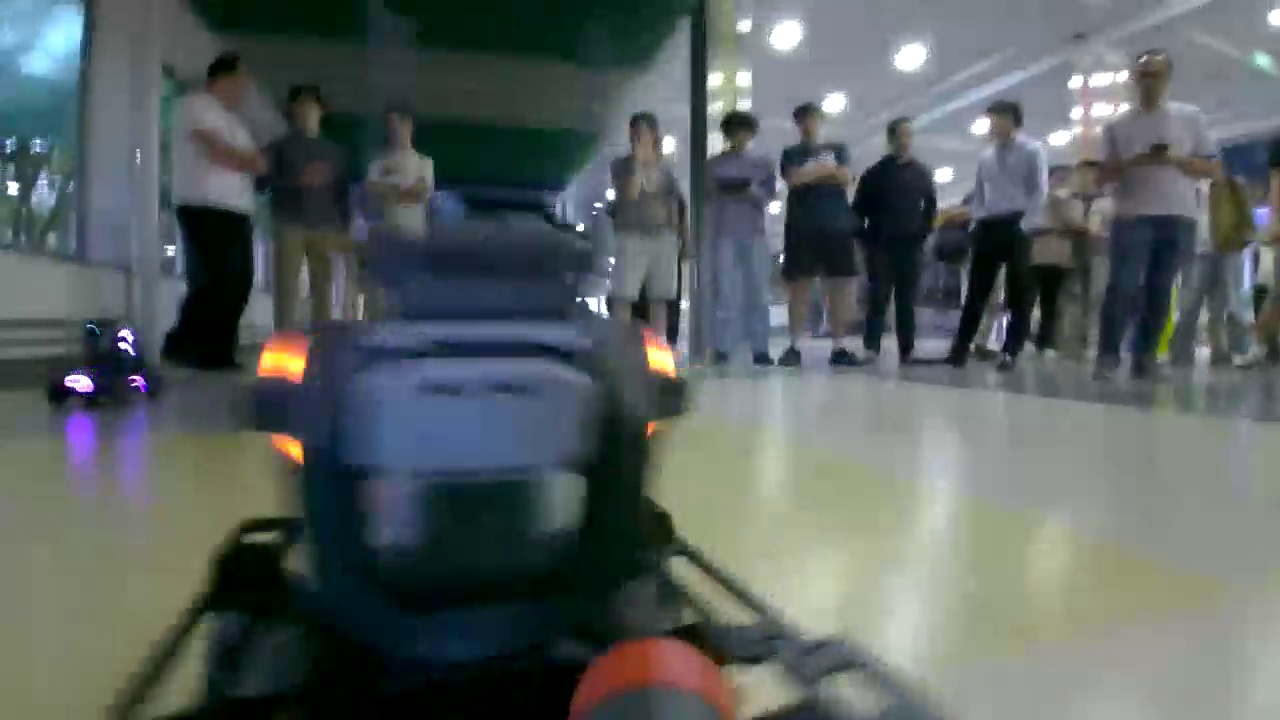robot: (112, 191, 792, 638), (31, 310, 169, 408)
